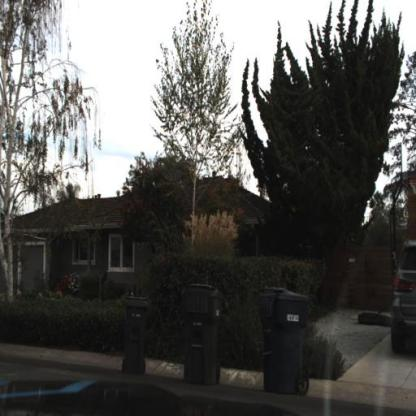car: (391, 239, 416, 357)
